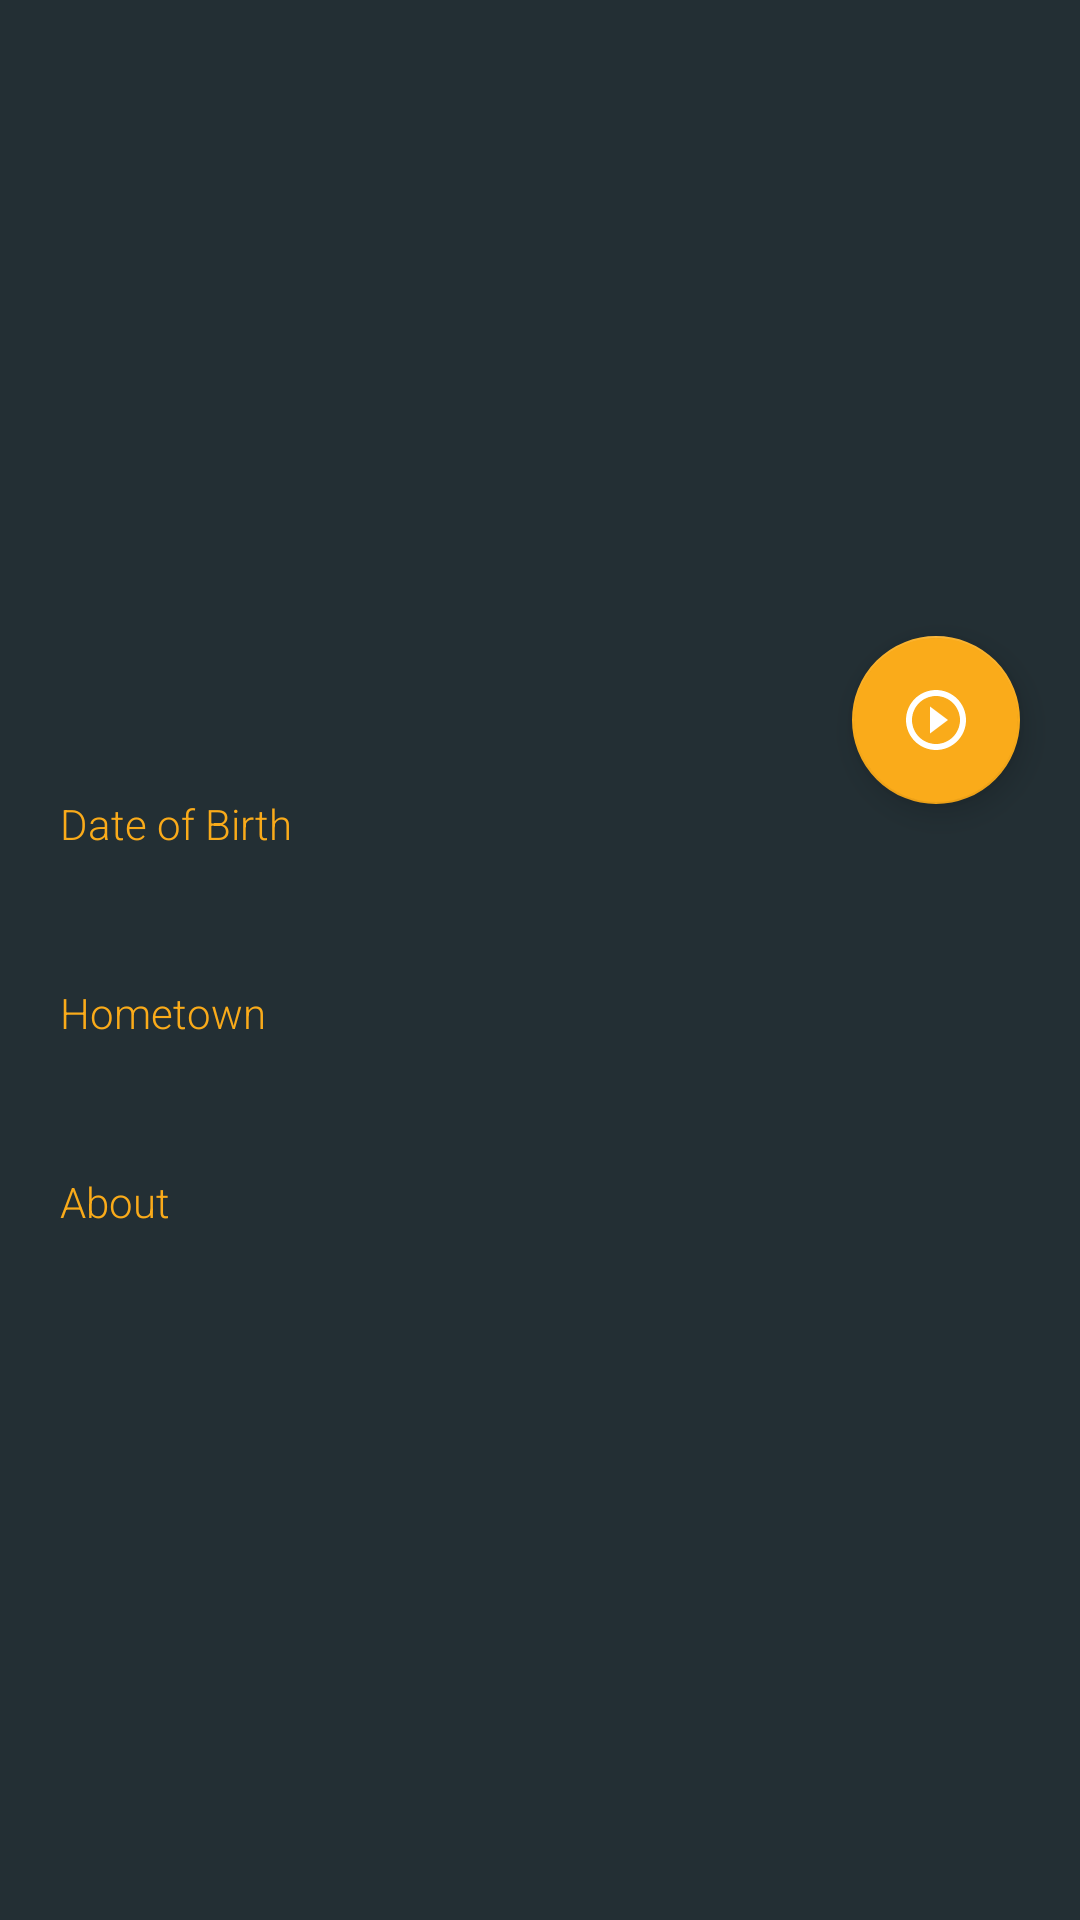

Point at icon controls on the screen. Image size 1080×1920, points as (x,y).
play: (936,720)
